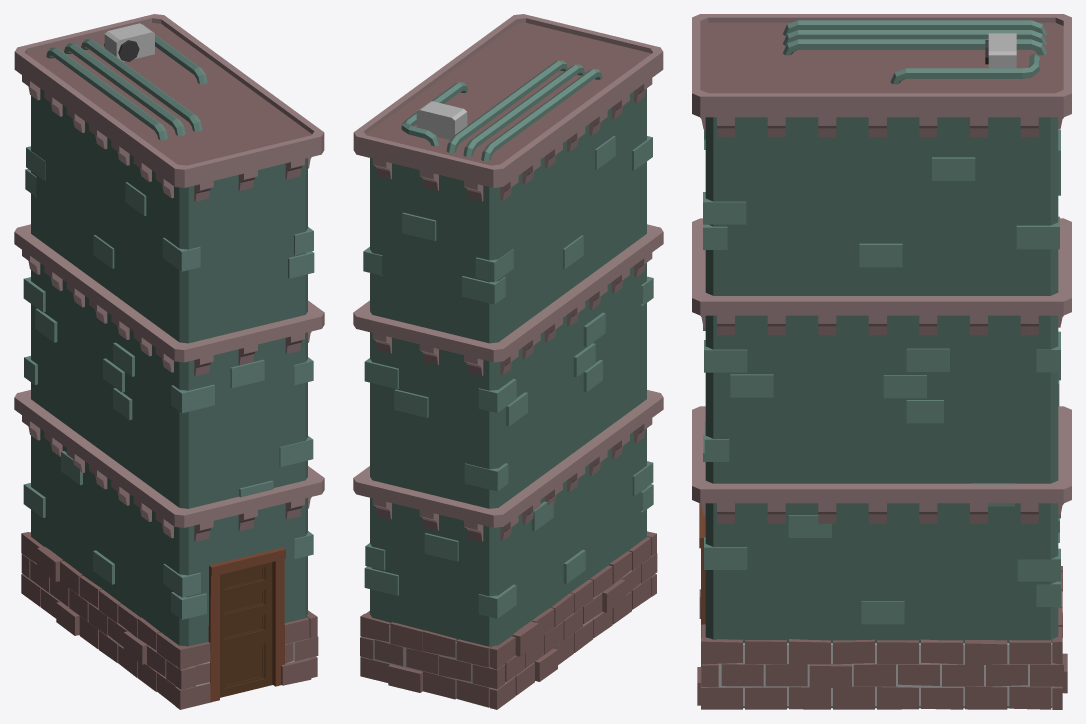
The model's file is 3Story_Slim_Mat.glb.
3 renders of one model, left to right at view 1: azimuth 30°, elevation 25°; view 2: azimuth 150°, elevation 25°; view 3: azimuth 270°, elevation 25°, orthographic. The views are drawn at different scales.
Visible parts, largest first — view 1: 3Story_Slim_Mat; view 2: 3Story_Slim_Mat; view 3: 3Story_Slim_Mat.
Boxes of the visible parts, left/top/right/bottom form: 3Story_Slim_Mat: left=14, top=14, right=324, bottom=709; 3Story_Slim_Mat: left=353, top=14, right=663, bottom=709; 3Story_Slim_Mat: left=692, top=14, right=1071, bottom=709.
Size of the model in its own units: 1.12 by 3.99 by 2.15.
